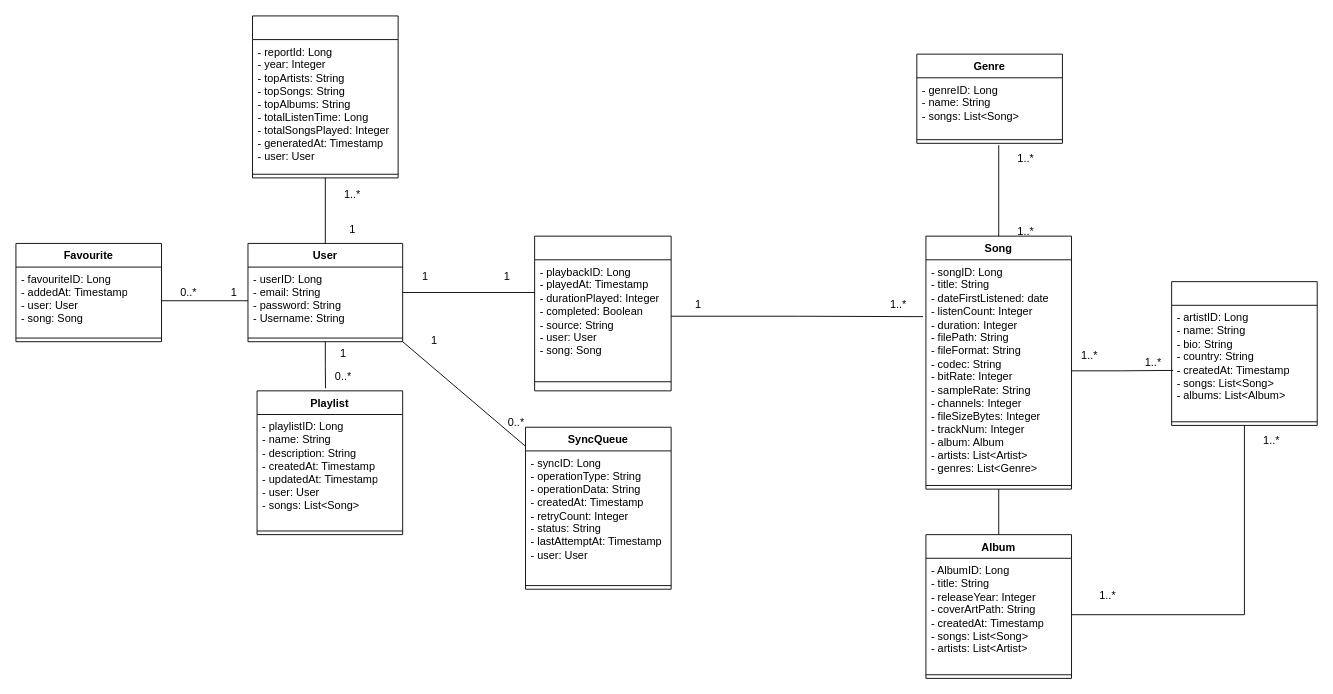
Image size: 1333x694. Some labels were removed from this diagram. The shapes that lost their labels are listed below. From the top down, each one's box as (x1, y1, x2, y2) in pixels, then its label:
(252, 15, 398, 178): YearEndReport
(534, 235, 671, 391): PlaybackHistory
(1171, 281, 1317, 425): Artists
